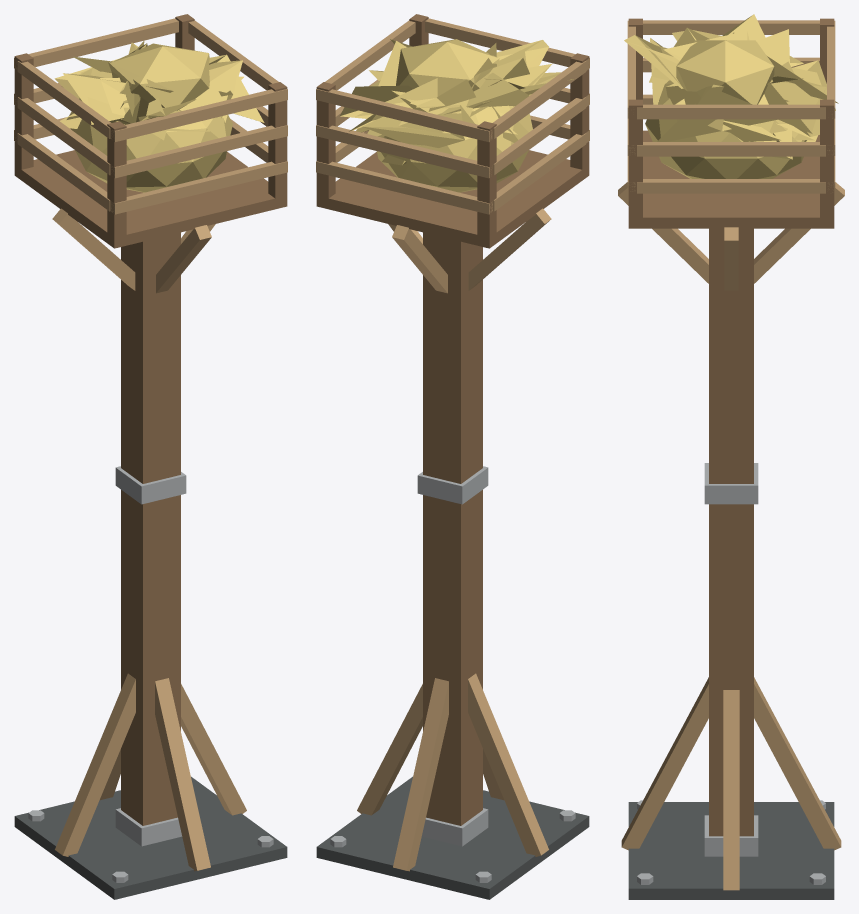
Rendered from giraffe_feeder.glb.
3 views of the same model, side by side, from view 1: azimuth 30°, elevation 25°; view 2: azimuth 150°, elevation 25°; view 3: azimuth 270°, elevation 25° (orthographic). The views are drawn at different scales.
Parts seen in each view (by area): view 1: GiraffeFeeder_wood_dark, GiraffeFeeder_wood_light, GiraffeFeeder_hay, GiraffeFeeder_metal_dark, GiraffeFeeder_metal_galvanized; view 2: GiraffeFeeder_wood_dark, GiraffeFeeder_wood_light, GiraffeFeeder_hay, GiraffeFeeder_metal_dark, GiraffeFeeder_metal_galvanized; view 3: GiraffeFeeder_wood_dark, GiraffeFeeder_wood_light, GiraffeFeeder_hay, GiraffeFeeder_metal_dark, GiraffeFeeder_metal_galvanized.
Boxes of the visible parts, x1,y1,x2,y2 form: GiraffeFeeder_wood_dark: (14,14,287,825); GiraffeFeeder_wood_light: (14,18,287,871); GiraffeFeeder_hay: (54,41,264,192); GiraffeFeeder_metal_dark: (14,776,287,899); GiraffeFeeder_metal_galvanized: (28,466,273,882); GiraffeFeeder_wood_dark: (316,14,589,825); GiraffeFeeder_wood_light: (316,18,589,871); GiraffeFeeder_hay: (340,39,574,192); GiraffeFeeder_metal_dark: (316,776,589,899); GiraffeFeeder_metal_galvanized: (330,466,575,882); GiraffeFeeder_wood_dark: (628,18,834,836); GiraffeFeeder_wood_light: (618,20,844,890); GiraffeFeeder_hay: (624,14,838,178); GiraffeFeeder_metal_dark: (628,802,834,899); GiraffeFeeder_metal_galvanized: (637,463,825,884).
Bounding box in the file's own units: 1.1 × 4.4 × 1.1.
